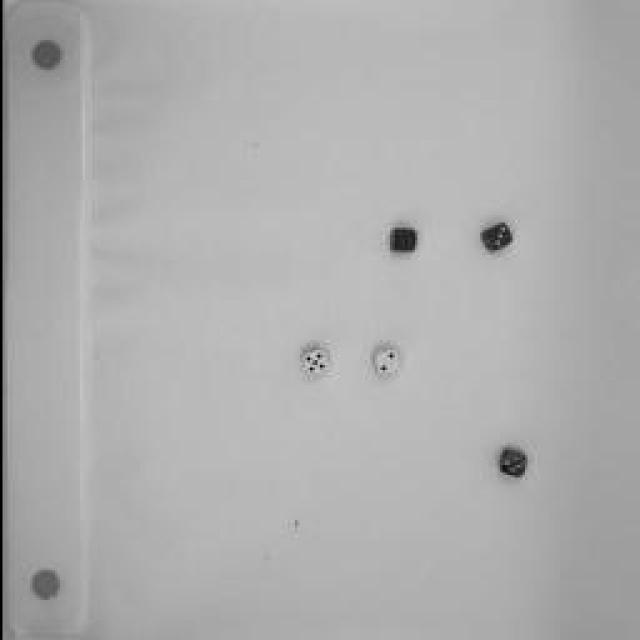dice_2: (365, 342, 403, 378)
dice_3: (476, 222, 514, 252), (378, 230, 418, 255)
dice_5: (490, 445, 525, 480), (300, 345, 325, 377)
